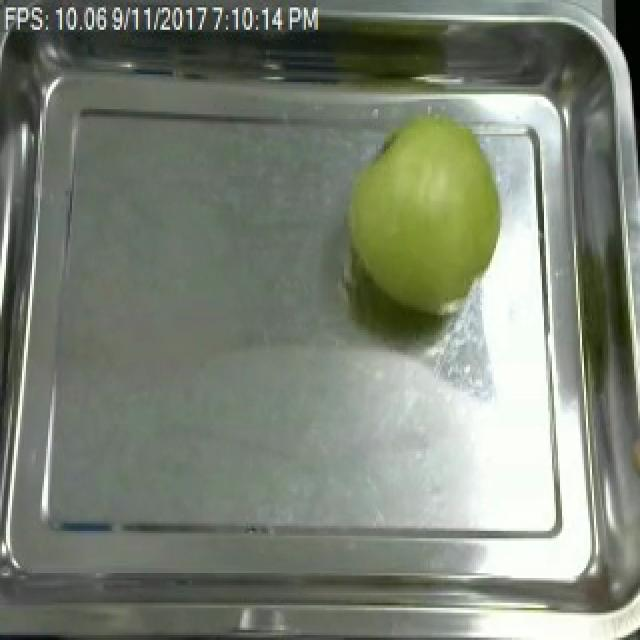Fruit: (336, 109, 512, 323)
